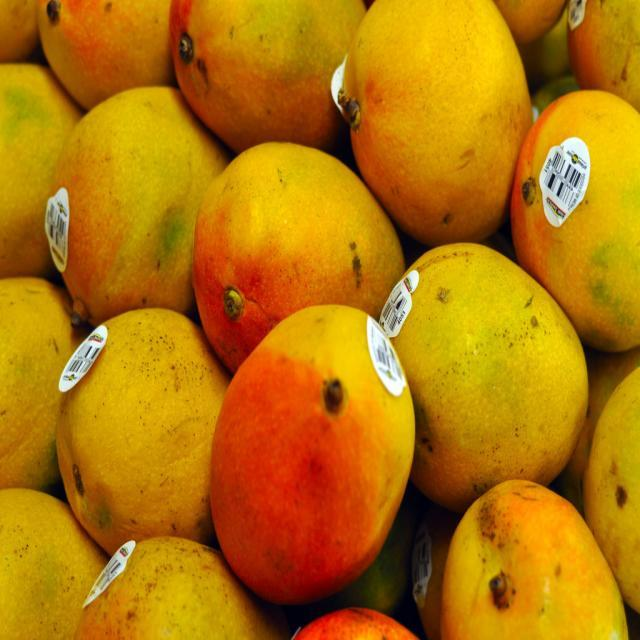Mango: (0, 0, 640, 639), (2, 0, 640, 639), (382, 246, 592, 510), (342, 1, 532, 253), (510, 91, 640, 350)
